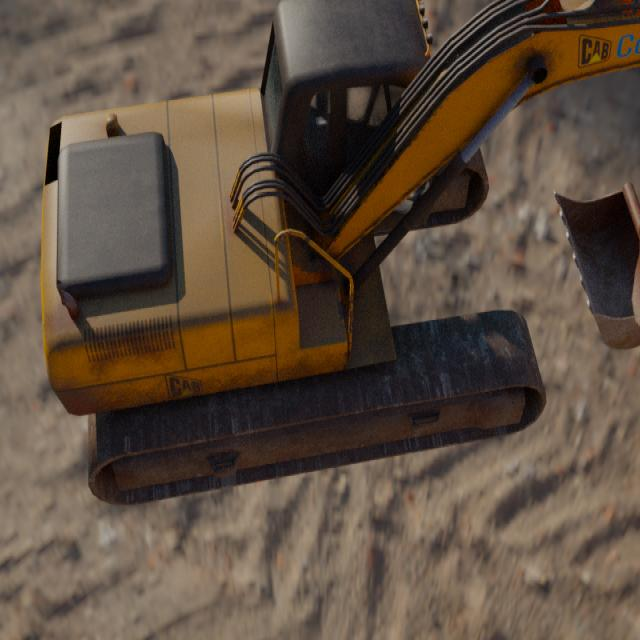excavator: (40, 0, 640, 507)
